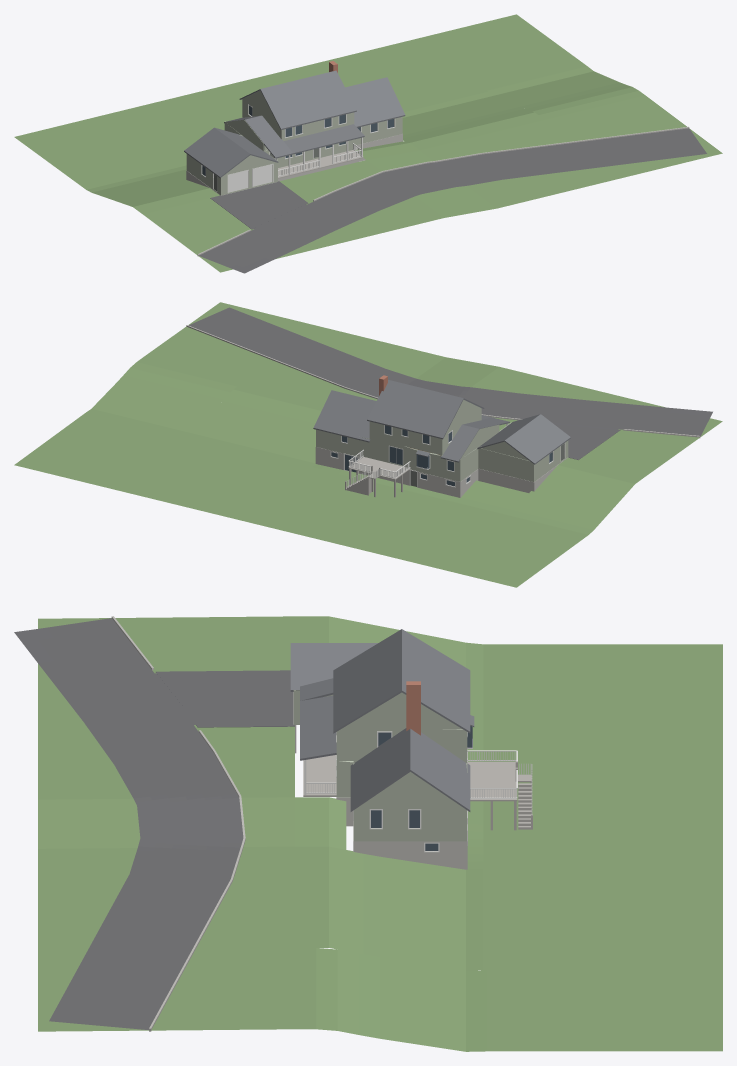
File: house.glb
3 renders of one model, top to bottom at view 1: azimuth 30°, elevation 25°; view 2: azimuth 150°, elevation 25°; view 3: azimuth 270°, elevation 25°, orthographic. The views are drawn at different scales.
Visible parts, largest first — view 1: Site__Ground, Site__Asphalt, Roof__Roof, First__Siding, Roof__Siding, First__Trim, Second__Siding, Site__Foundation, First__Deck, First__GarageDoor, Basement__Foundation; view 2: Site__Ground, Site__Asphalt, Roof__Roof, First__Siding, Basement__Foundation, Second__Siding, First__Deck, Roof__Siding, First__Trim, First__Foundation, Site__Foundation, First__Glass; view 3: Site__Ground, Site__Asphalt, Roof__Roof, First__Siding, First__Deck, Roof__Siding, Basement__Foundation, Second__Siding, First__Trim, Site__Foundation, Roof__Brick.
Boxes of the visible parts, x1=… form: Site__Ground: x1=14, y1=14, x2=722, y2=272; Site__Asphalt: x1=199, y1=128, x2=706, y2=273; Roof__Roof: x1=184, y1=70, x2=405, y2=177; First__Siding: x1=186, y1=117, x2=402, y2=195; Roof__Siding: x1=225, y1=90, x2=277, y2=173; First__Trim: x1=201, y1=118, x2=395, y2=192; Second__Siding: x1=242, y1=99, x2=354, y2=140; Site__Foundation: x1=197, y1=126, x2=689, y2=256; First__Deck: x1=278, y1=150, x2=363, y2=178; First__GarageDoor: x1=228, y1=164, x2=272, y2=192; Basement__Foundation: x1=278, y1=134, x2=402, y2=181; Site__Ground: x1=14, y1=302, x2=722, y2=587; Site__Asphalt: x1=189, y1=307, x2=712, y2=459; Roof__Roof: x1=313, y1=380, x2=570, y2=464; First__Siding: x1=316, y1=422, x2=568, y2=481; Basement__Foundation: x1=315, y1=447, x2=478, y2=497; Second__Siding: x1=369, y1=408, x2=481, y2=455; First__Deck: x1=345, y1=457, x2=410, y2=497; Roof__Siding: x1=447, y1=399, x2=529, y2=460; First__Trim: x1=341, y1=423, x2=565, y2=487; First__Foundation: x1=478, y1=457, x2=568, y2=492; Site__Foundation: x1=186, y1=325, x2=700, y2=438; First__Glass: x1=342, y1=436, x2=552, y2=471; Site__Ground: x1=38, y1=616, x2=722, y2=1051; Site__Asphalt: x1=14, y1=618, x2=294, y2=1030; Roof__Roof: x1=290, y1=629, x2=470, y2=811; First__Siding: x1=293, y1=690, x2=467, y2=841; First__Deck: x1=303, y1=755, x2=532, y2=830; Roof__Siding: x1=342, y1=692, x2=462, y2=807; Basement__Foundation: x1=336, y1=749, x2=467, y2=869; Second__Siding: x1=336, y1=728, x2=467, y2=762; First__Trim: x1=304, y1=739, x2=532, y2=829; Site__Foundation: x1=111, y1=616, x2=245, y2=1031; Roof__Brick: x1=406, y1=681, x2=420, y2=735.
Bounding box in the file's own units: 68.58 × 11.38 × 50.47.
